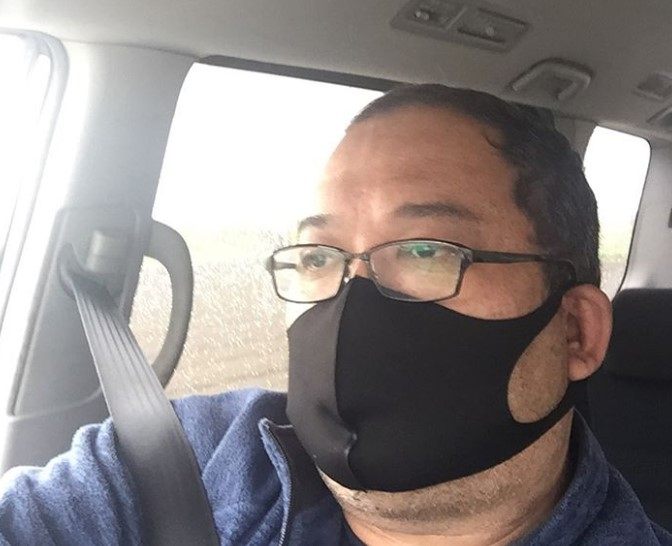face_with_mask: (260, 88, 620, 506)
